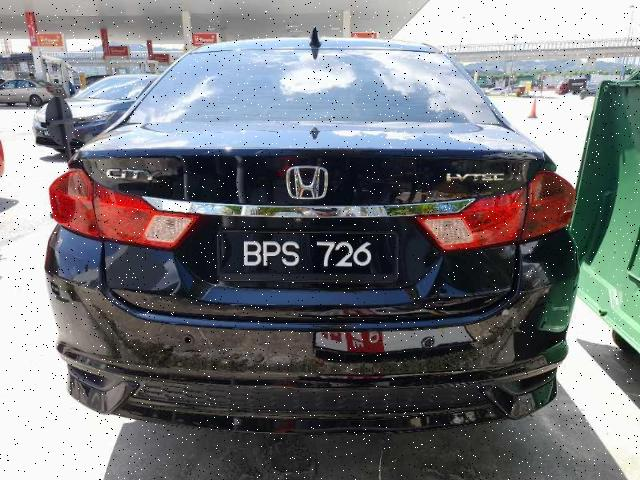License_Plate: (217, 229, 402, 285)
car: (45, 30, 582, 437)
